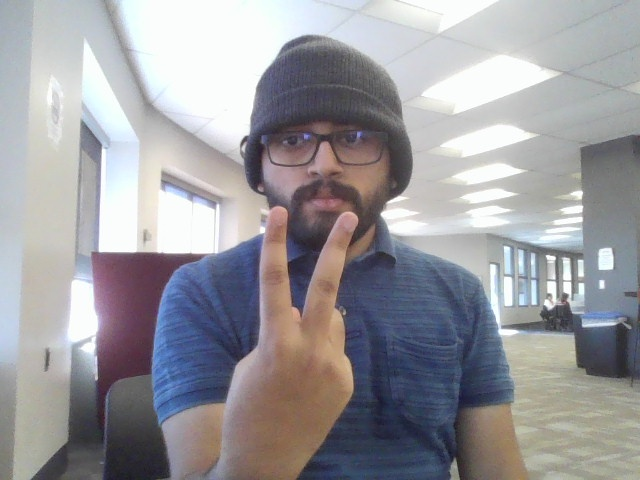start: (223, 204, 374, 458)
